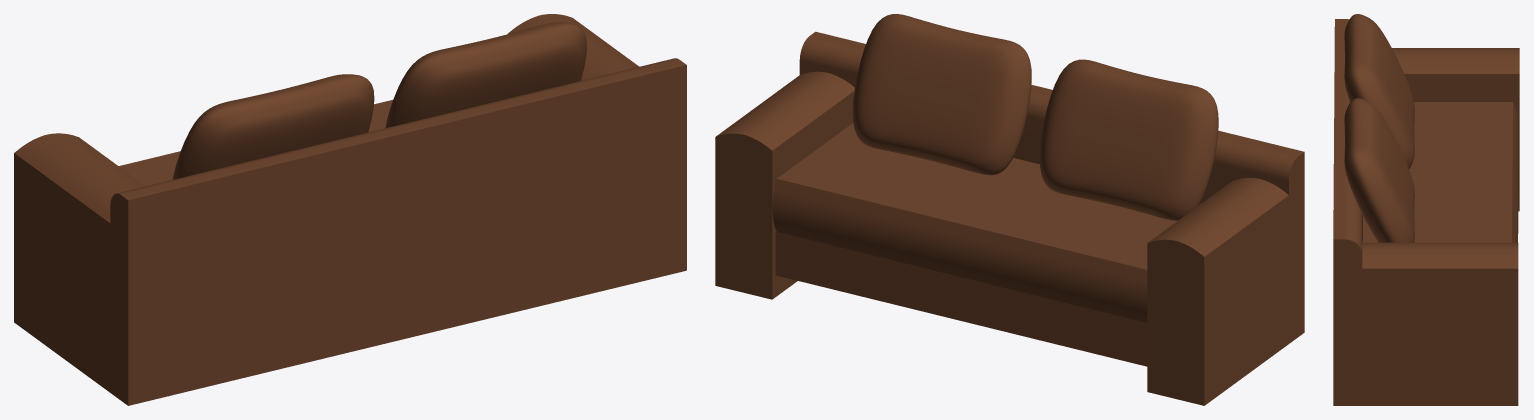
The model's file is Canape1_6.fbx.
3 renders of one model, left to right at view 1: azimuth 30°, elevation 25°; view 2: azimuth 150°, elevation 25°; view 3: azimuth 270°, elevation 25°, orthographic. The views are drawn at different scales.
Parts seen in each view (by area): view 1: pCube1068, pCube2517, pCube2516, pCube2518; view 2: pCube1068, pCube2518, pCube2517, pCube2516, pCube2515; view 3: pCube1068, pCube2518, pCube2517, pCube2516.
Boxes of the visible parts, x1,y1,x2,y2 form: pCube1068: (14,14,686,405); pCube2517: (385,22,586,128); pCube2516: (172,74,374,179); pCube2518: (119,100,392,186); pCube1068: (715,31,1304,405); pCube2518: (772,123,1200,322); pCube2517: (852,14,1031,175); pCube2516: (1039,59,1218,220); pCube2515: (775,231,1147,366); pCube1068: (1333,19,1519,405); pCube2518: (1362,102,1518,242); pCube2517: (1344,98,1414,242); pCube2516: (1344,14,1414,168).
Bounding box in the file's own units: 166 × 74.66 × 59.34.
